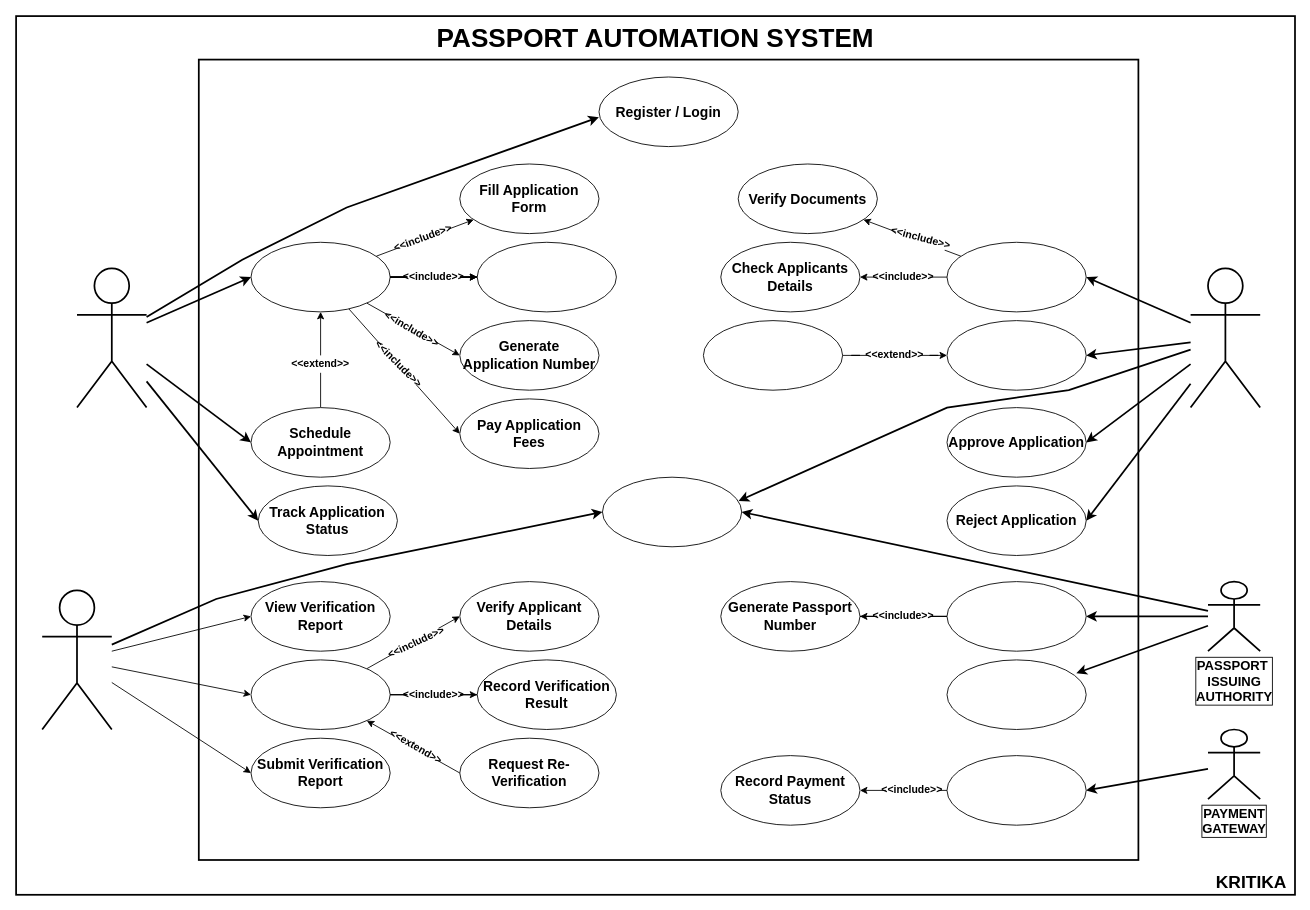
This 1310x910 diagram has some shape labels left out. The centre of each missing label's shape, as x and y in pixels:
"APPLICANT" belongs at (x=111, y=337).
"Apply For Passport" belongs at (x=320, y=276).
"Conduct Police Verification" belongs at (x=320, y=694).
"Dispatch Passport" belongs at (x=1016, y=694).
"Generate Passport" belongs at (x=1016, y=616).
"Login" belongs at (x=672, y=511).
"PASSPORT OFFICER" belongs at (x=1225, y=337).
"POLICE OFFICER" belongs at (x=76, y=659).
"Process Passport Application" belongs at (x=1016, y=355).
"Process Payment" belongs at (x=1016, y=790).
"Request Additional Documents" belongs at (x=773, y=355).
"Review Application" belongs at (x=1016, y=276).
"Upload Document" belongs at (x=546, y=276).
